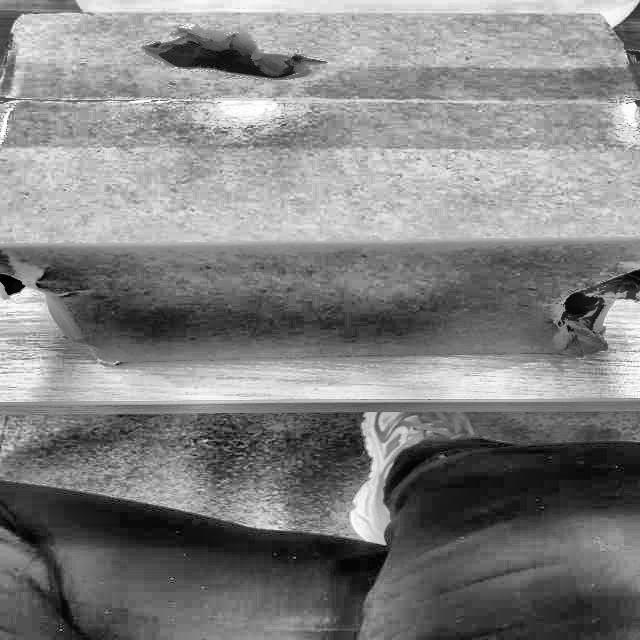box: (0, 4, 640, 376)
hole: (140, 30, 322, 86), (561, 269, 633, 328)
